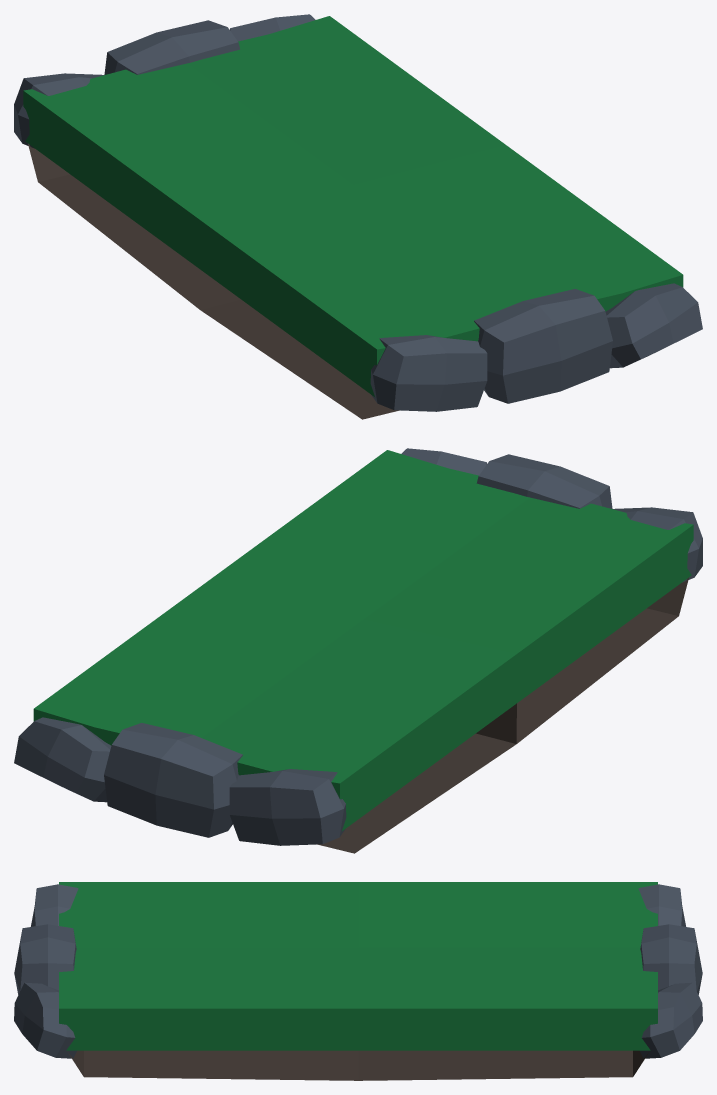
Rendered from platform1x-grass.glb.
3 renders of one model, top to bottom at view 1: azimuth 30°, elevation 25°; view 2: azimuth 150°, elevation 25°; view 3: azimuth 270°, elevation 25°, orthographic. The views are drawn at different scales.
Parts seen in each view (by area): view 1: Cube; view 2: Cube; view 3: Cube.
Part boxes in pixels (x1,y1,x2,y2): Cube: (14,14,702,419); Cube: (14,448,702,853); Cube: (14,882,702,1080).
Size of the model in its own units: 1.04 by 0.3142 by 2.3.
1 material, 1 textured.
